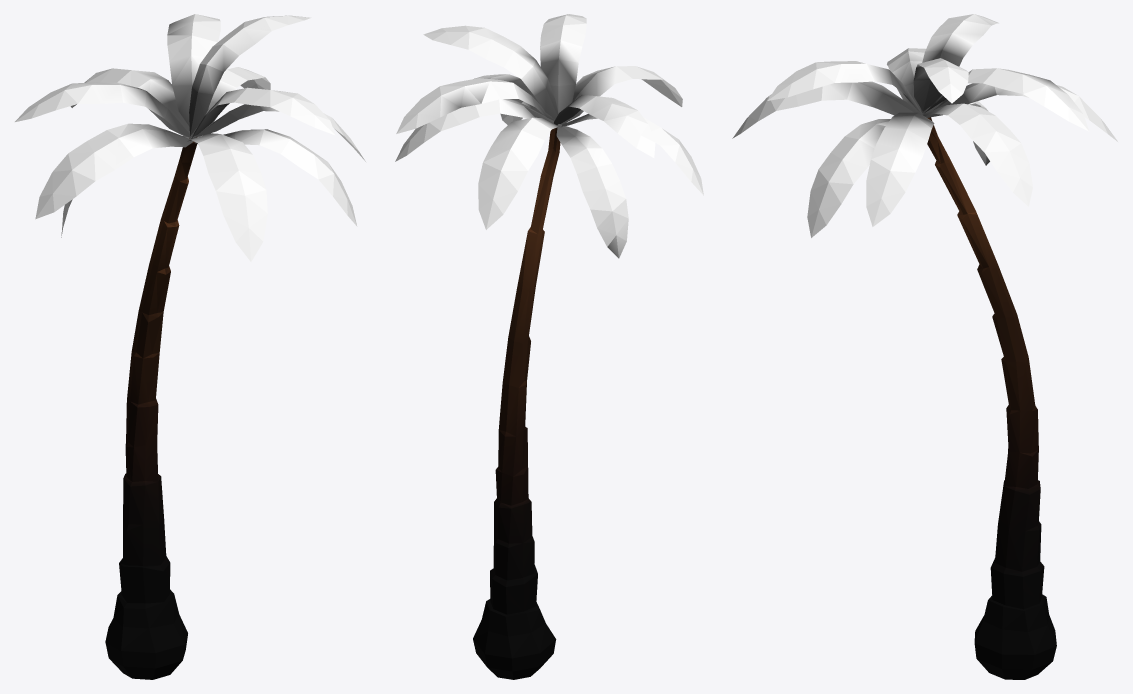
Rendered from SM_PalmTree_1.FBX.
The picture shows the model from 3 angles, left to right: view 1: azimuth 30°, elevation 25°; view 2: azimuth 150°, elevation 25°; view 3: azimuth 270°, elevation 25°; orthographic projection. The views are drawn at different scales.
Visible parts, largest first — view 1: SM_PalmTree_1; view 2: SM_PalmTree_1; view 3: SM_PalmTree_1.
Boxes of the visible parts, <box> form: SM_PalmTree_1: <box>15,14,365,679</box>; SM_PalmTree_1: <box>395,14,703,679</box>; SM_PalmTree_1: <box>732,14,1117,679</box>.
Bounding box in the file's own units: 325 × 361 × 664.
